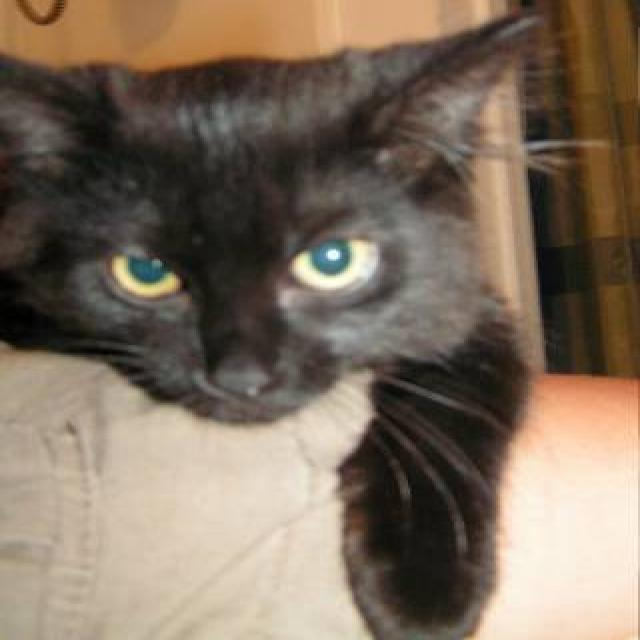cat: (0, 9, 558, 638)
